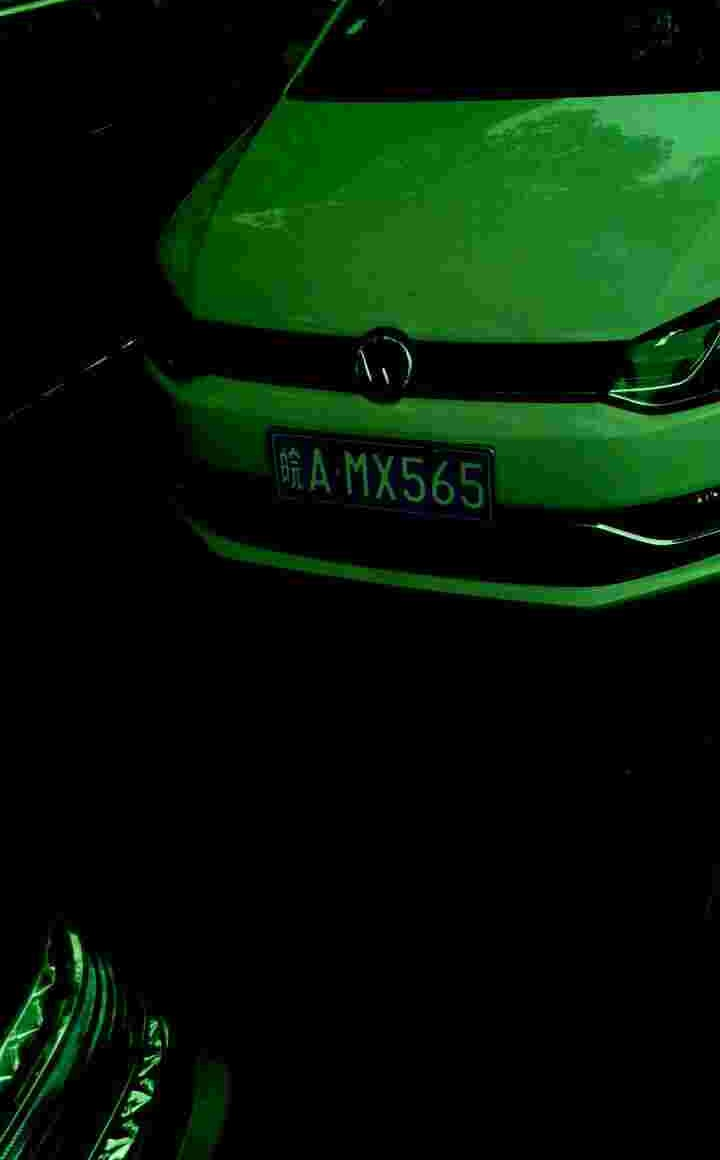car: (258, 422, 513, 519)
